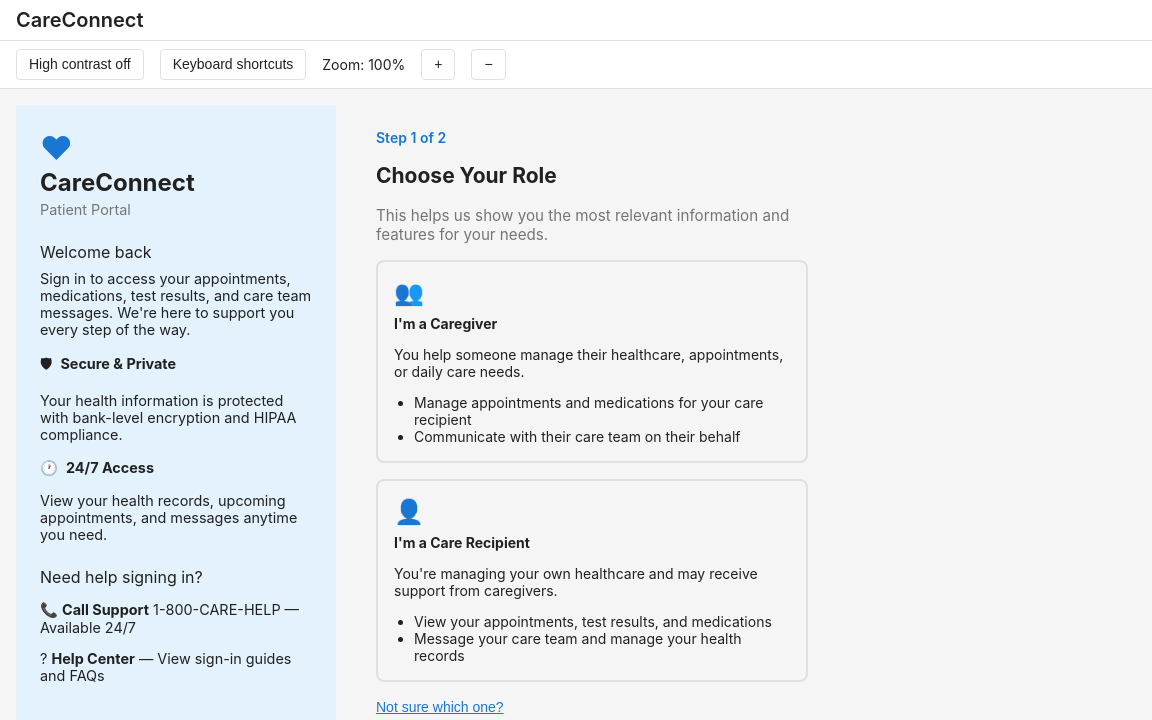
Scenario: KeyboardShortcutsModal › close button closes modal
Click the button with aria-label "open keyboard shortcuts" at (233, 64), box [160,49,306,80]
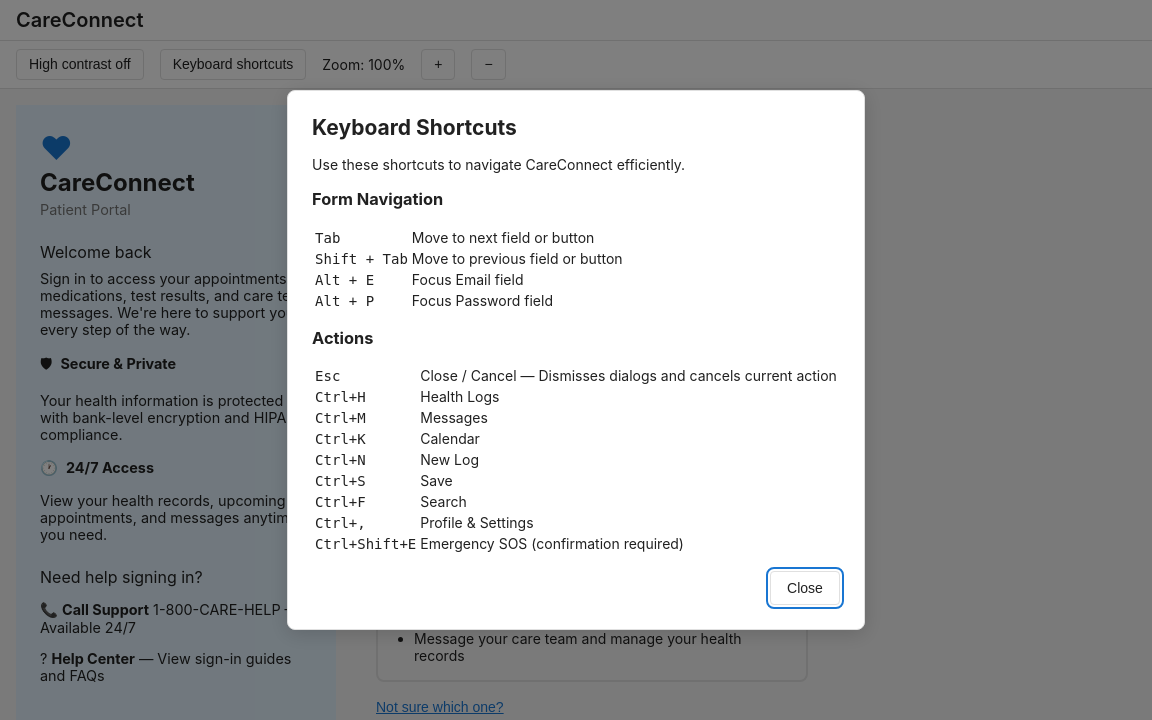
Click the button "Close" at (805, 588), box [770,571,840,605]
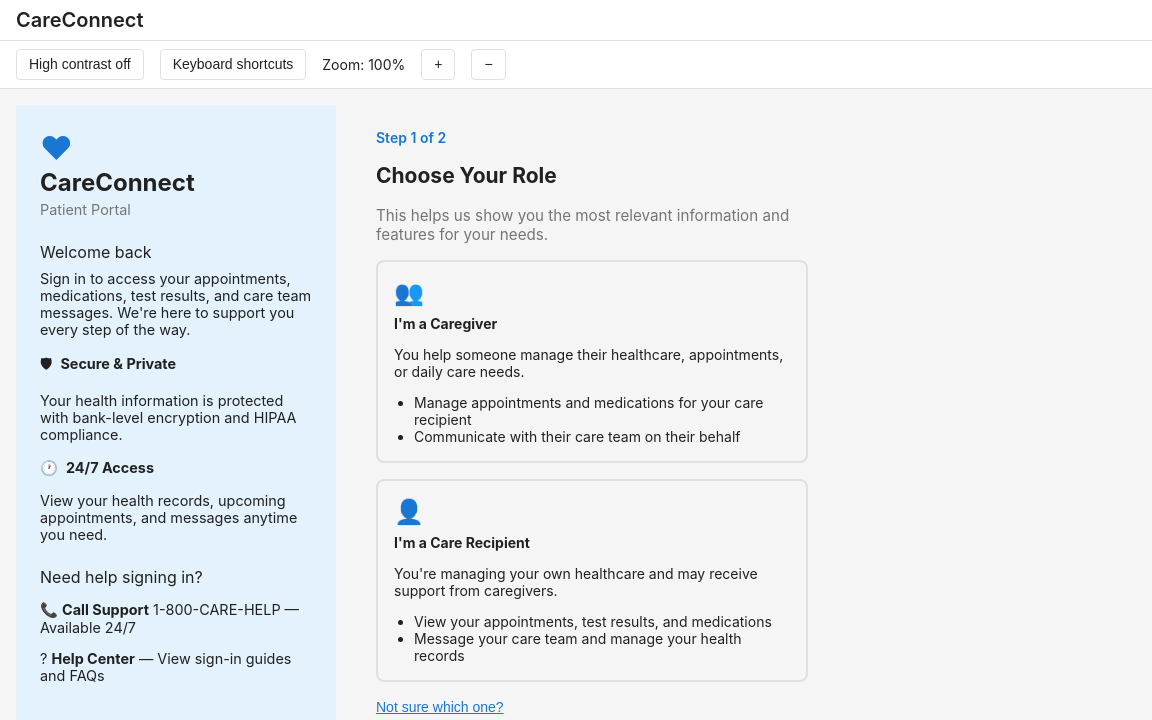
Expected: the dialog is gone
